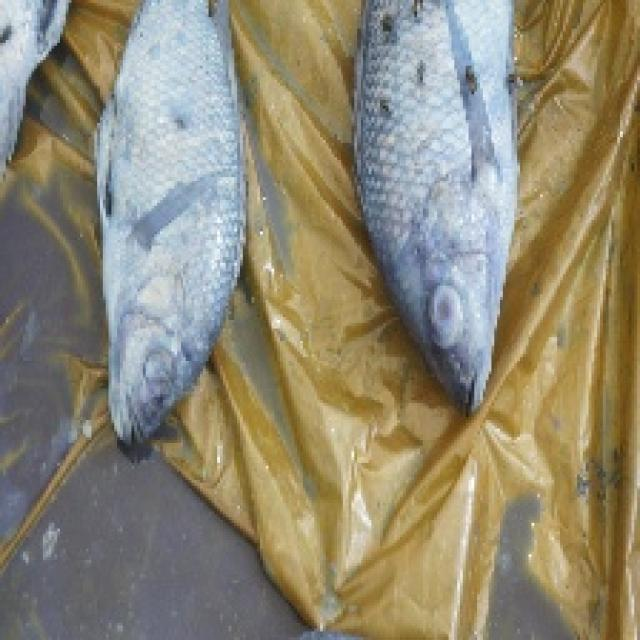Non-Fresh: (344, 0, 556, 419), (81, 55, 278, 471)
